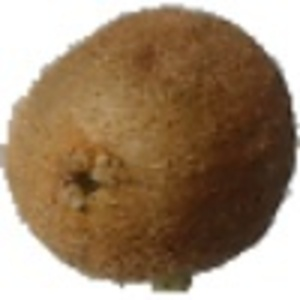kiwi: (1, 4, 300, 296)
